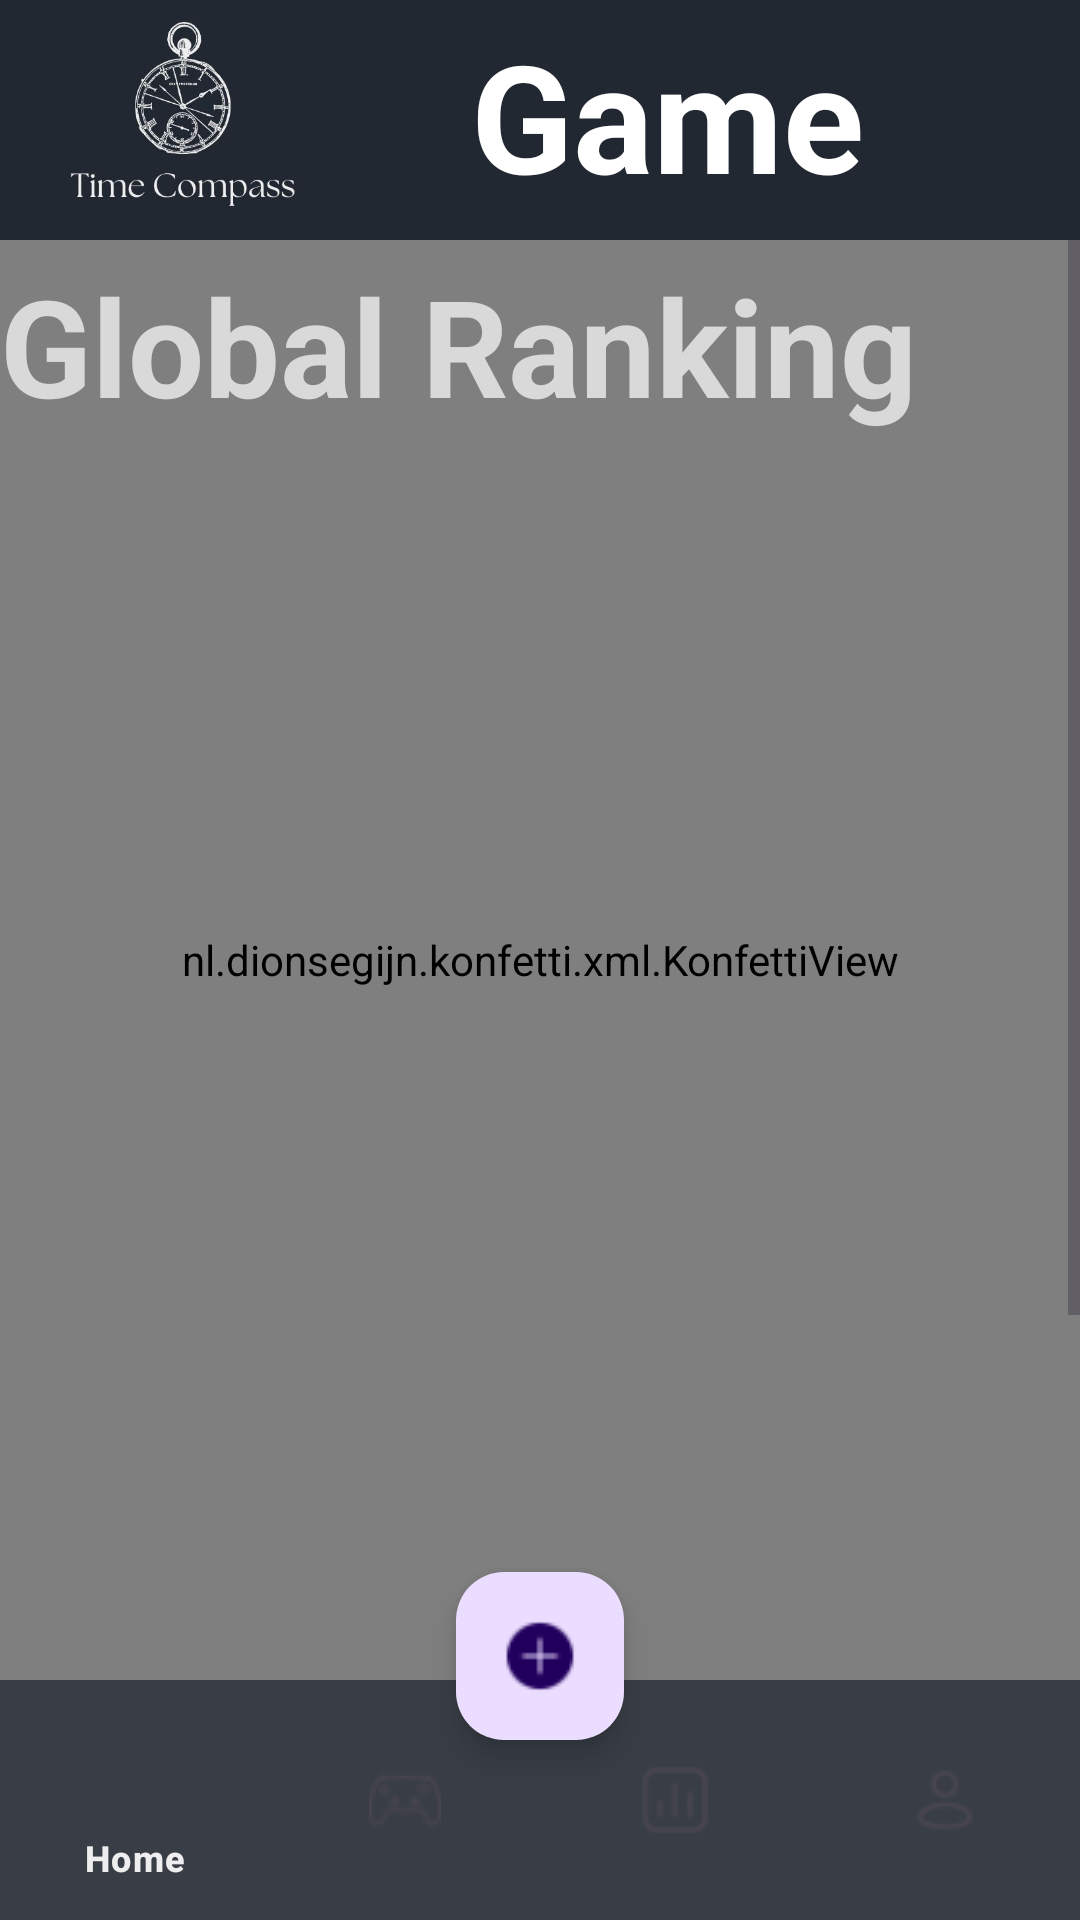

Icon click points for this 1080*1920 phone screenshot, format point (x, y):
plus: point (540, 1656)
